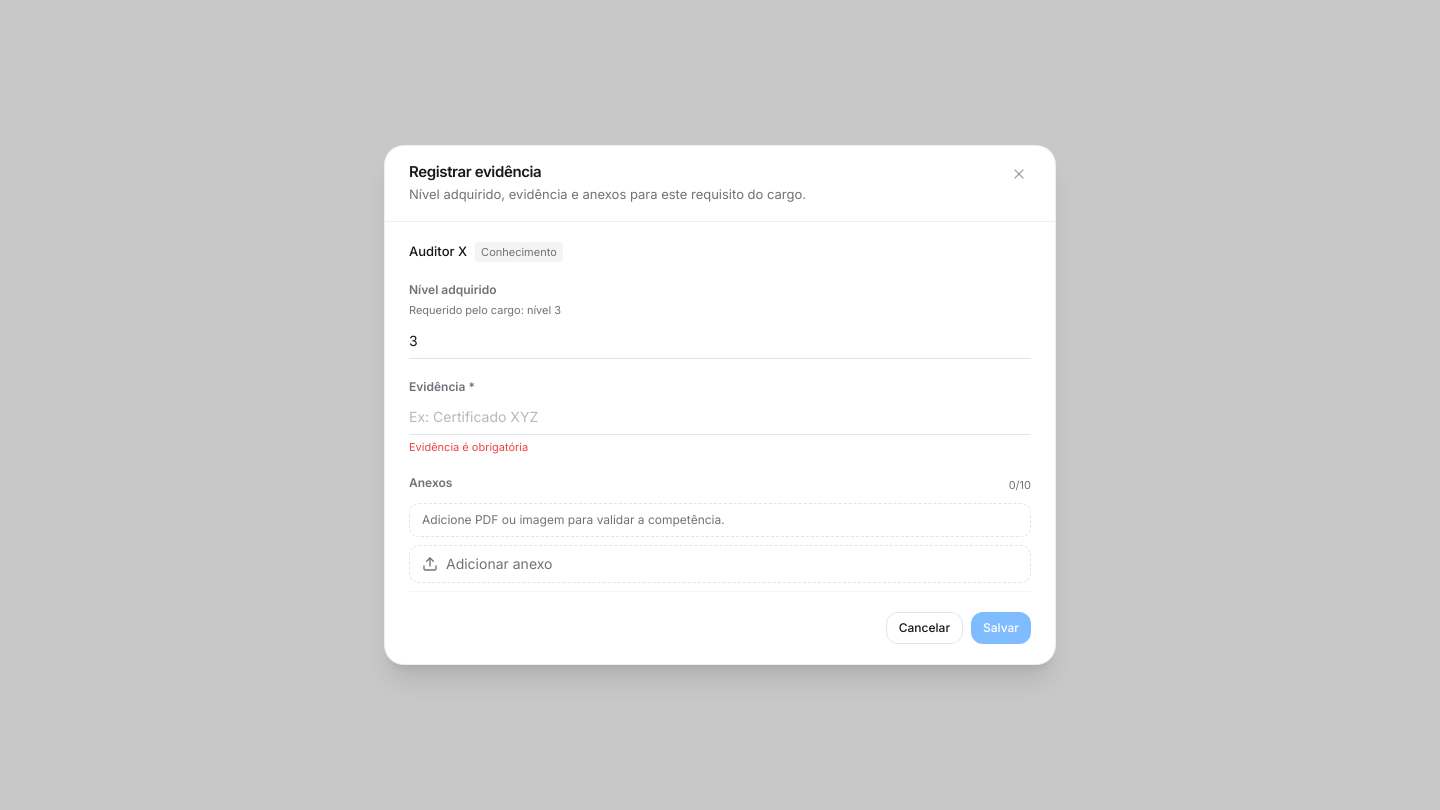
it: RegistrarEvidenciaDialog — modo anexar › mantém o botão Salvar desabilitado e mostra erro enquanto a evidência estiver vazia
Expected: the button "Salvar" is disabled, [971,612,1031,644]
Expected: the text "Evidência é obrigatória" is shown, [409,440,528,454]
Step 1. Type "Certificado ABC" into the field with placeholder "Ex: Certificado XYZ" → coordinates (720, 416), box [409,398,1031,434]
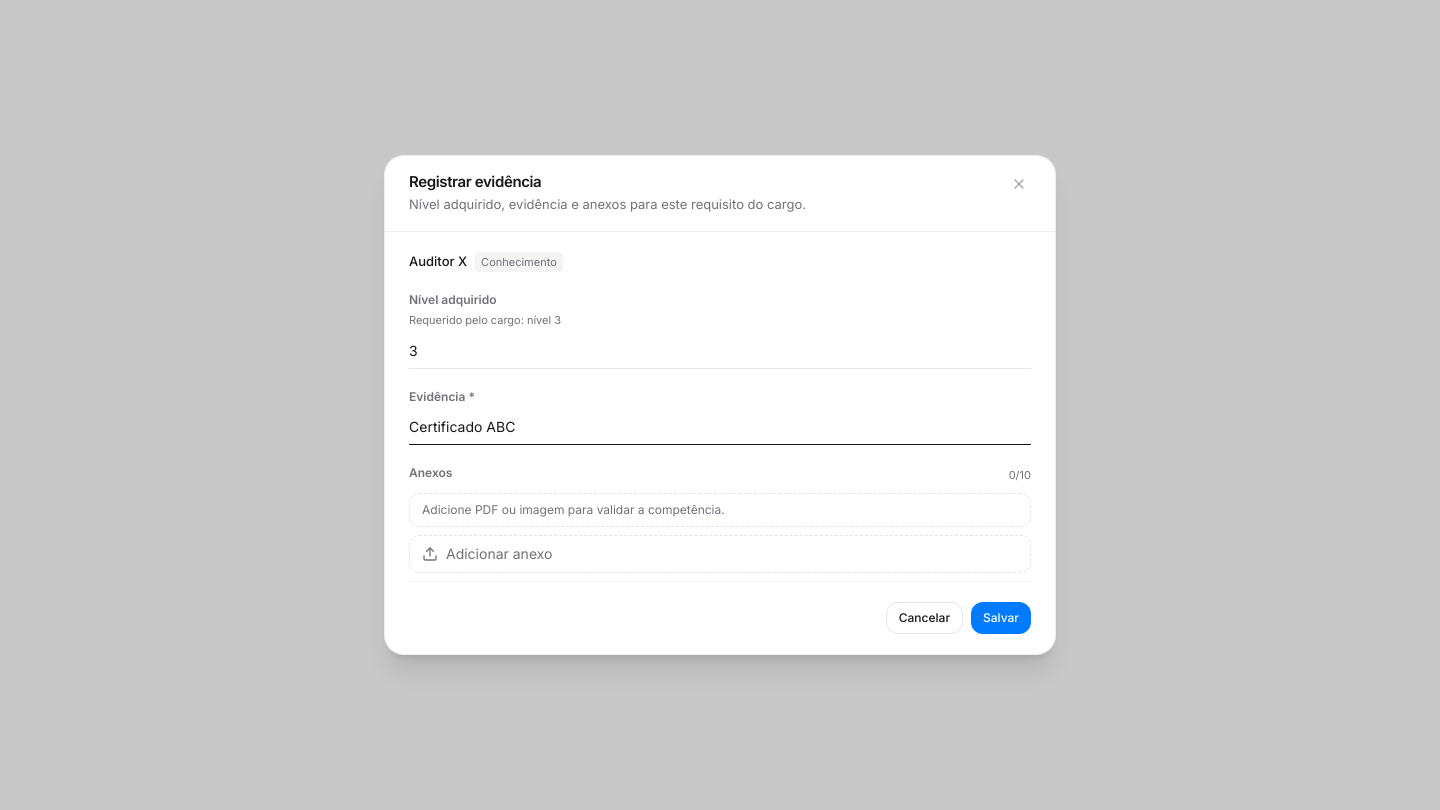
Expected: the button "Salvar" is enabled, [971,602,1031,634]
Expected: the text "Evidência é obrigatória" is gone
